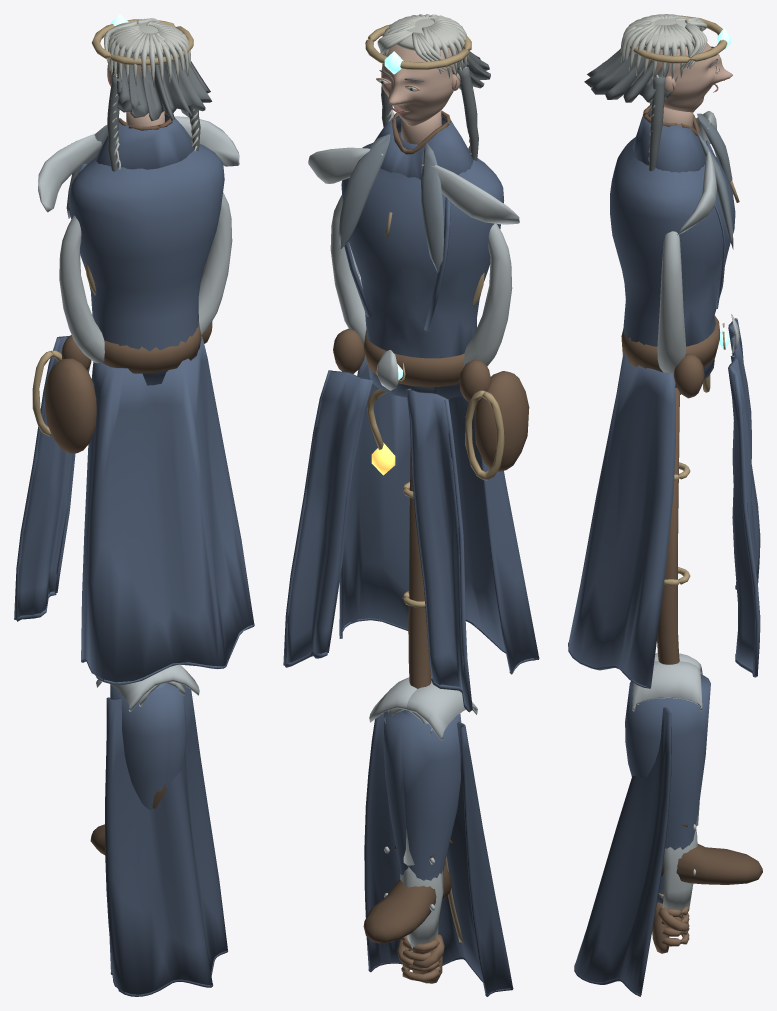
The model's file is arcanist.glb.
The picture shows the model from 3 angles, left to right: view 1: azimuth 30°, elevation 25°; view 2: azimuth 150°, elevation 25°; view 3: azimuth 270°, elevation 25°; orthographic projection. The views are drawn at different scales.
Parts seen in each view (by area): view 1: Body__violet, Cape__violet, Body__leather, Weapon__silver, LegL__violet, Body__hair_shadow, Body__hair, Body__silver, Body__gold, LegR__violet, ArmL__silver, HairL__hair_shadow (+2 smaller); view 2: Body__violet, Cape__violet, Body__leather, LegL__violet, Weapon__silver, Body__iron, Body__silver, Body__skin, ArmL__silver, KneeL__leather, Body__hair, Weapon__leather (+8 smaller); view 3: Body__violet, Cape__violet, LegR__violet, Body__hair, Weapon__silver, Body__skin, Body__leather, Weapon__leather, KneeL__leather, Body__hair_shadow, ArmR__silver, ArmL__silver (+6 smaller).
Boxes of the visible parts, left/top/right/bottom form: Body__violet: left=14, top=113, right=254, bottom=684; Cape__violet: left=105, top=684, right=227, bottom=996; Body__leather: left=45, top=110, right=212, bottom=453; Weapon__silver: left=59, top=192, right=232, bottom=363; LegL__violet: left=110, top=683, right=177, bottom=809; Body__hair_shadow: left=111, top=52, right=211, bottom=121; Body__hair: left=104, top=18, right=190, bottom=87; Body__silver: left=38, top=116, right=239, bottom=212; Body__gold: left=32, top=19, right=193, bottom=436; LegR__violet: left=148, top=688, right=186, bottom=787; ArmL__silver: left=96, top=671, right=185, bottom=711; HairL__hair_shadow: left=107, top=75, right=122, bottom=171; Body__violet: left=283, top=115, right=539, bottom=712; Cape__violet: left=364, top=712, right=513, bottom=996; Body__leather: left=333, top=110, right=529, bottom=471; LegL__violet: left=385, top=711, right=461, bottom=879; Weapon__silver: left=330, top=195, right=512, bottom=366; Body__iron: left=338, top=134, right=444, bottom=272; Body__silver: left=308, top=147, right=519, bottom=390; Body__skin: left=376, top=45, right=460, bottom=144; ArmL__silver: left=384, top=681, right=477, bottom=948; KneeL__leather: left=363, top=839, right=453, bottom=943; Body__hair: left=377, top=14, right=468, bottom=78; Weapon__leather: left=408, top=444, right=431, bottom=688; Body__violet: left=568, top=110, right=760, bottom=688; Cape__violet: left=574, top=707, right=671, bottom=996; LegR__violet: left=625, top=675, right=710, bottom=848; Body__hair: left=620, top=14, right=707, bottom=79; Weapon__silver: left=657, top=231, right=686, bottom=373; Body__skin: left=644, top=43, right=732, bottom=127; Body__leather: left=621, top=105, right=720, bottom=398; Weapon__leather: left=657, top=388, right=679, bottom=664; KneeL__leather: left=661, top=824, right=762, bottom=884; Body__hair_shadow: left=584, top=44, right=717, bottom=102; ArmR__silver: left=632, top=661, right=702, bottom=875; ArmL__silver: left=637, top=653, right=702, bottom=936.
Bounding box in the file's own units: 0.6417 × 2.89 × 0.5384.
